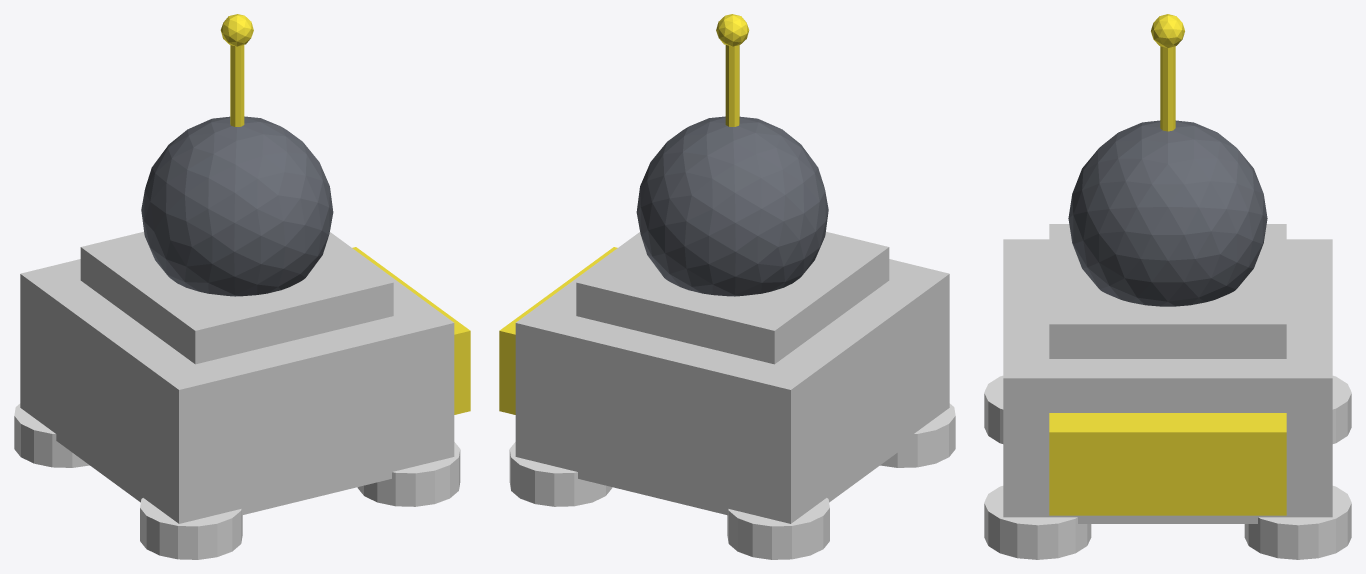
Rendered from robot.glb.
3 views of the same model, side by side, from view 1: azimuth 30°, elevation 25°; view 2: azimuth 150°, elevation 25°; view 3: azimuth 270°, elevation 25° (orthographic). The views are drawn at different scales.
Parts seen in each view (by area): view 1: Body, Turret, Wheel_BL, Wheel_FL, Wheel_BR, Antenna, Kicker; view 2: Body, Turret, Wheel_BR, Wheel_FR, Wheel_BL, Antenna, Kicker; view 3: Body, Turret, Kicker, Wheel_FL, Wheel_FR, Antenna, Wheel_BL, Wheel_BR.
Boxes of the visible parts, <box> form: Body: <box>20,231,454,523</box>; Turret: <box>141,116,333,296</box>; Wheel_BL: <box>140,498,242,559</box>; Wheel_FL: <box>357,442,460,506</box>; Wheel_BR: <box>14,403,89,467</box>; Antenna: <box>220,14,253,126</box>; Kicker: <box>352,247,470,414</box>; Body: <box>515,231,949,523</box>; Turret: <box>636,116,828,296</box>; Wheel_BR: <box>727,498,829,559</box>; Wheel_FR: <box>509,442,612,506</box>; Wheel_BL: <box>880,403,955,467</box>; Antenna: <box>716,14,749,126</box>; Kicker: <box>499,247,617,414</box>; Body: <box>1003,224,1332,523</box>; Turret: <box>1068,120,1267,306</box>; Kicker: <box>1049,413,1286,515</box>; Wheel_FL: <box>984,486,1091,559</box>; Wheel_FR: <box>1244,486,1351,559</box>; Antenna: <box>1151,14,1184,131</box>; Wheel_BL: <box>984,375,1003,443</box>; Wheel_BR: <box>1332,375,1351,443</box>.
Bounding box in the file's own units: 1.03 × 1.34 × 0.96.
